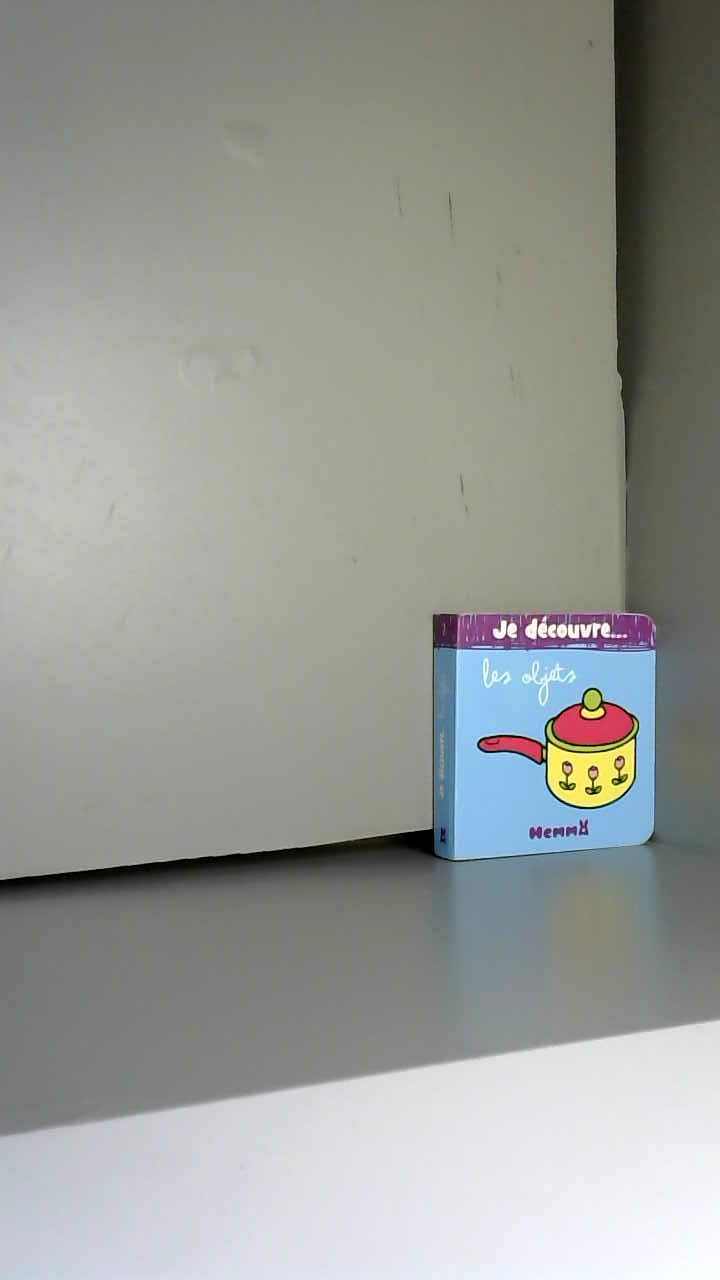book: (409, 588, 669, 877)
